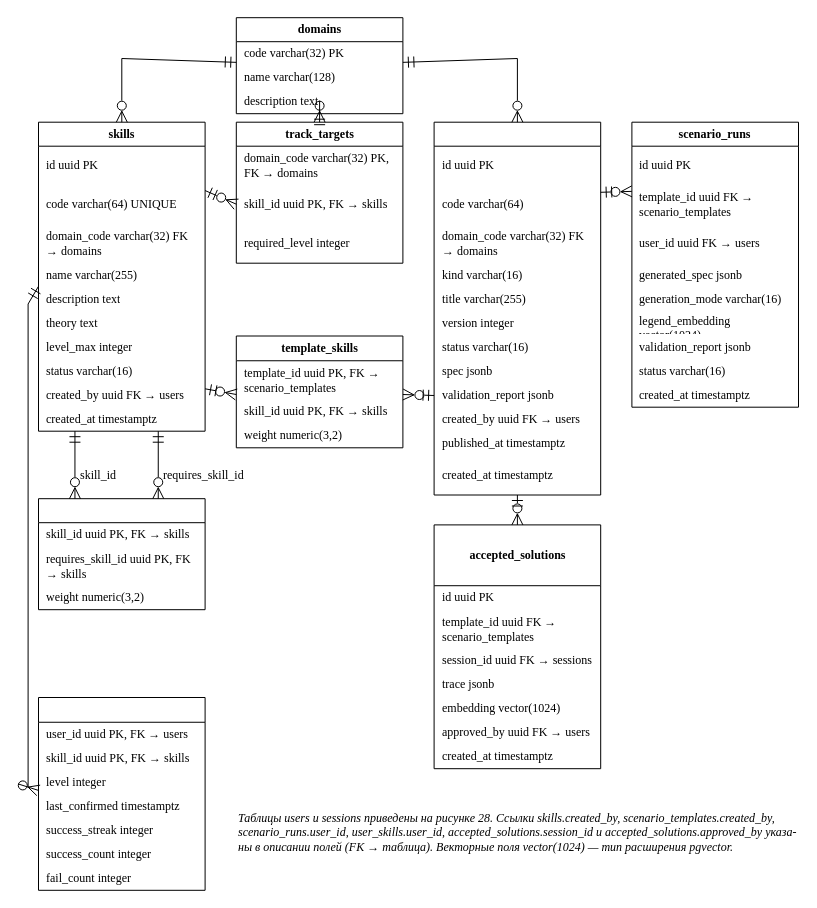
Image size: 817x908. Some labels were removed from this diagram. Here are the shapes that lost their labels. From the top down, the box of each, then its label:
(433, 121, 601, 495): scenario_templates
(38, 498, 205, 610): skill_requires
(38, 696, 205, 890): user_skills
